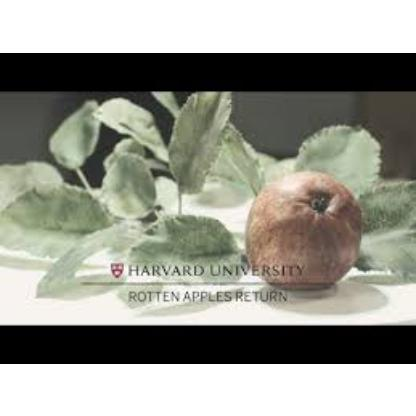apple: (245, 179, 360, 289)
